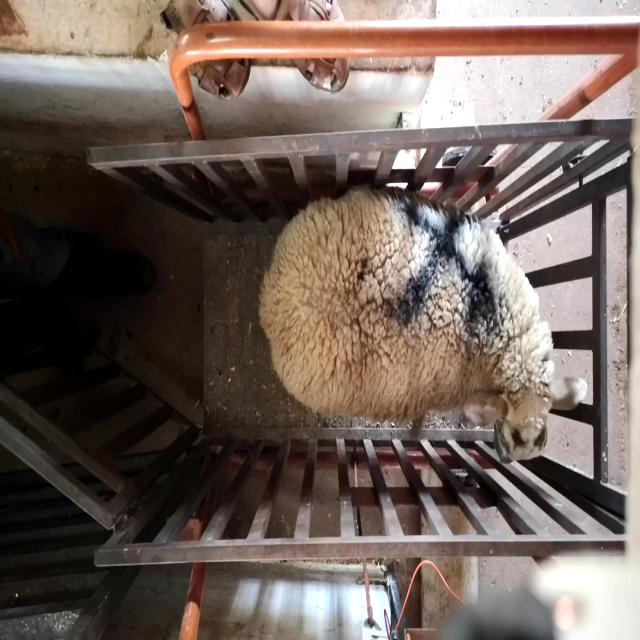sheep: (258, 185, 588, 466)
